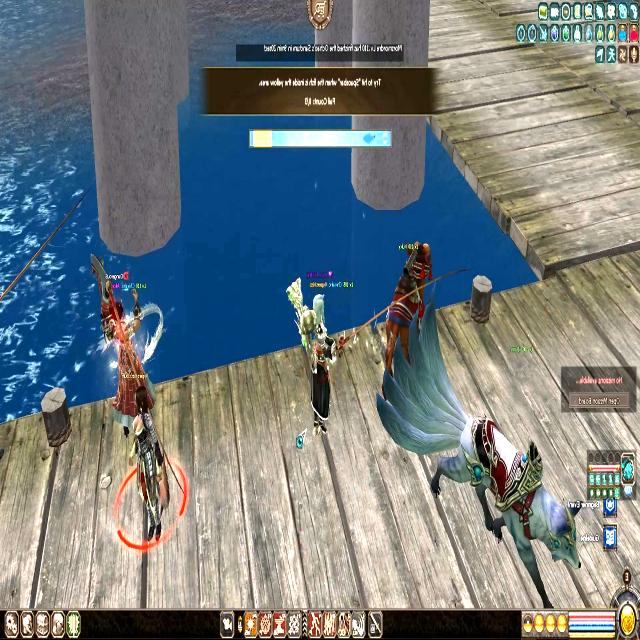fishes: (362, 132, 377, 144)
